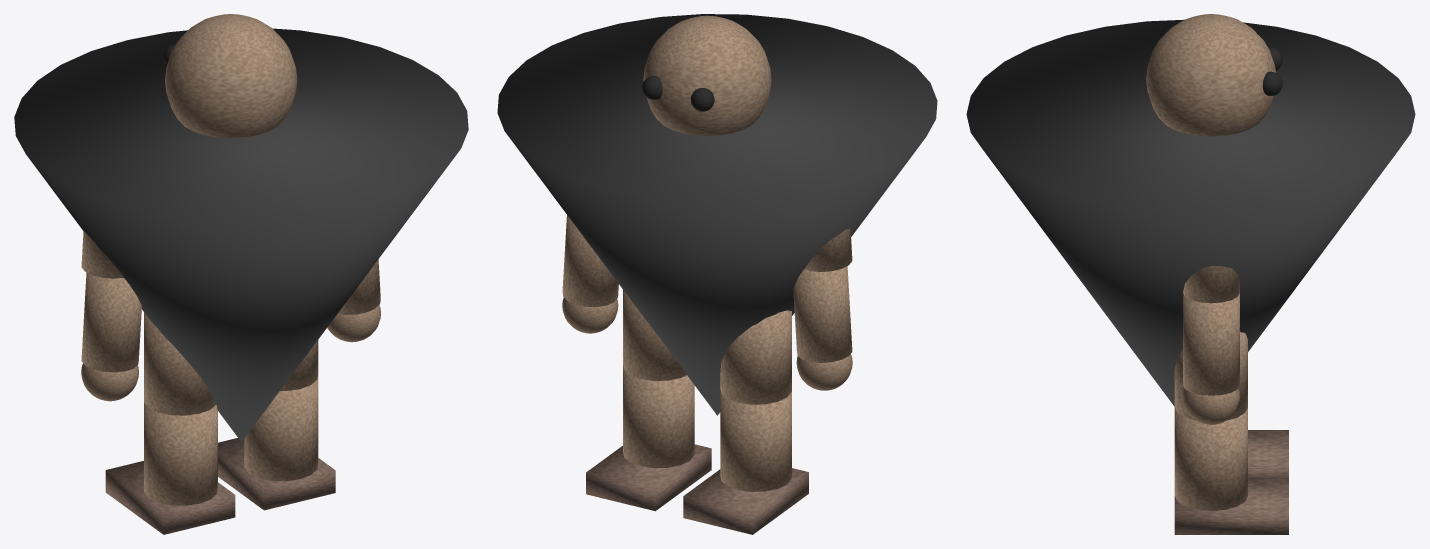
The model's file is wight-lord.glb.
3 renders of one model, left to right at view 1: azimuth 30°, elevation 25°; view 2: azimuth 150°, elevation 25°; view 3: azimuth 270°, elevation 25°, orthographic. The views are drawn at different scales.
Visible parts, largest first — view 1: Cloak, Head, ShinL, ShinR, ForearmL, ThighL, FootL, FootR, HandL, HandR, ForearmR, UpperArmL (+1 smaller); view 2: Cloak, Head, ShinL, ShinR, ThighL, ForearmL, FootL, FootR, ForearmR, ThighR, HandL, HandR (+1 smaller); view 3: Cloak, Head, ShinR, ForearmR, FootR, FootL, UpperArmR, HandR, ThighR.
Part boxes in pixels (x1,y1,x2,y2): Cloak: [14, 28, 468, 441]; Head: [165, 14, 297, 138]; ShinL: [144, 402, 217, 505]; ShinR: [244, 374, 318, 481]; ForearmL: [81, 272, 141, 372]; ThighL: [144, 312, 215, 415]; FootL: [105, 461, 235, 534]; FootR: [218, 438, 335, 510]; HandL: [81, 363, 138, 401]; HandR: [327, 305, 380, 342]; ForearmR: [338, 259, 380, 314]; UpperArmL: [81, 231, 123, 278]; Cloak: [497, 14, 937, 415]; Head: [643, 15, 771, 135]; ShinL: [720, 389, 791, 491]; ShinR: [623, 364, 694, 468]; ThighL: [720, 310, 791, 404]; ForearmL: [793, 266, 852, 362]; FootL: [683, 468, 808, 534]; FootR: [586, 444, 711, 511]; ForearmR: [562, 215, 618, 306]; ThighR: [623, 290, 686, 380]; HandL: [796, 354, 852, 390]; HandR: [562, 297, 618, 333]; Cloak: [966, 19, 1415, 406]; Head: [1146, 14, 1275, 136]; ShinR: [1174, 407, 1247, 510]; ForearmR: [1183, 293, 1239, 395]; FootR: [1174, 478, 1288, 534]; FootL: [1248, 430, 1288, 478]; UpperArmR: [1183, 265, 1239, 303]; HandR: [1183, 388, 1239, 424]; ThighR: [1174, 331, 1247, 420].
Bounding box in the file's own units: 0.8594 × 1 × 0.8594.
Materials: 4 (2 with a texture image).
